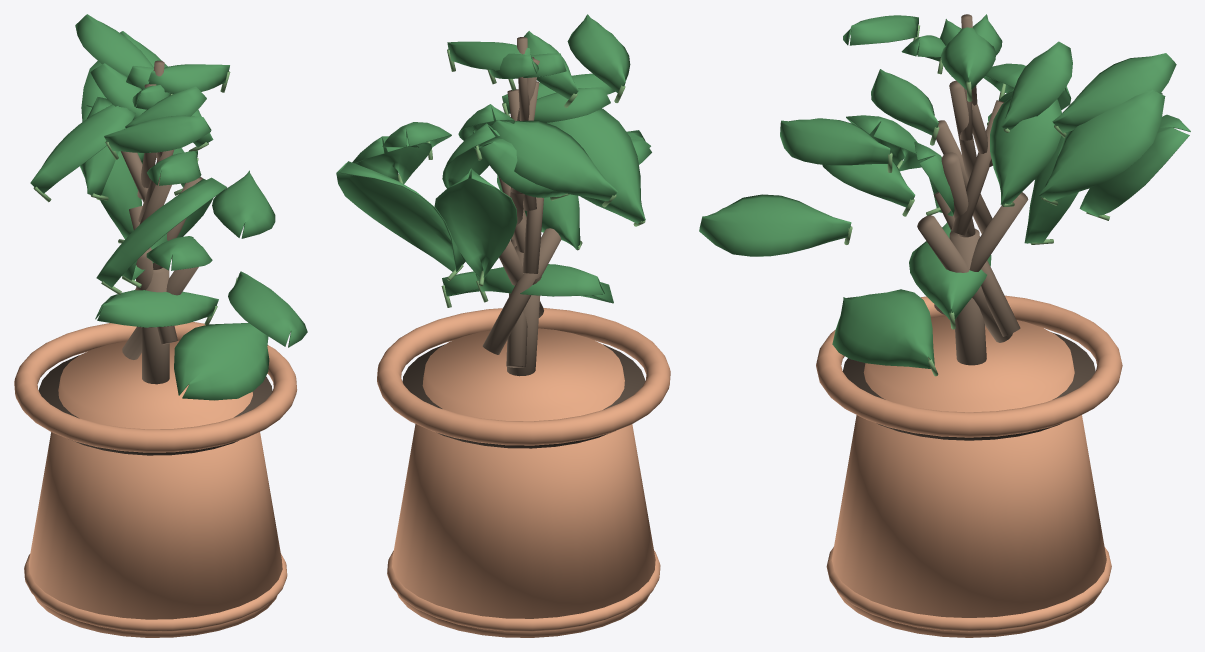
File: conservatory_plant_pbr.glb
3 views of the same model, side by side, from view 1: azimuth 30°, elevation 25°; view 2: azimuth 150°, elevation 25°; view 3: azimuth 270°, elevation 25° (orthographic). The views are drawn at different scales.
Visible parts, largest first — view 1: Cone, Torus.001, Foliage_Leaf_2, Torus, Foliage_Leaf_3, Foliage_Leaf_4, Foliage_Leaf_10, Foliage_Leaf_8, Foliage_Leaf_16, Foliage_Leaf_14, Foliage_Leaf_12, Foliage_Leaf_1 (+19 smaller); view 2: Cone, Torus.001, Foliage_Leaf_0, Foliage_Leaf_10, Foliage_Leaf_1, Foliage_Leaf_4, Torus, Foliage_Leaf_16, Foliage_Leaf_3, Branch_1, Cylinder.001, Foliage_Leaf_6 (+20 smaller); view 3: Cone, Torus.001, Foliage_Leaf_6, Foliage_Leaf_8, Foliage_Leaf_2, Foliage_Leaf_7, Torus, Foliage_Leaf_12, Foliage_Leaf_14, Foliage_Leaf_0, Foliage_Leaf_13, Foliage_Leaf_3 (+19 smaller).
Boxes of the visible parts, left/top/right/bottom form: Cone: left=28, top=340, right=282, bottom=619; Torus.001: left=14, top=322, right=297, bottom=452; Foliage_Leaf_2: left=174, top=322, right=269, bottom=400; Torus: left=24, top=554, right=287, bottom=631; Foliage_Leaf_3: left=95, top=290, right=218, bottom=327; Foliage_Leaf_4: left=96, top=177, right=226, bottom=287; Foliage_Leaf_10: left=30, top=104, right=135, bottom=193; Foliage_Leaf_8: left=228, top=271, right=307, bottom=347; Foliage_Leaf_16: left=104, top=115, right=211, bottom=152; Foliage_Leaf_14: left=212, top=170, right=275, bottom=238; Foliage_Leaf_12: left=75, top=14, right=153, bottom=89; Foliage_Leaf_1: left=83, top=105, right=141, bottom=239; Cone: left=392, top=328, right=655, bottom=618; Torus.001: left=377, top=308, right=670, bottom=445; Foliage_Leaf_0: left=336, top=161, right=465, bottom=271; Foliage_Leaf_10: left=490, top=120, right=617, bottom=201; Foliage_Leaf_1: left=434, top=168, right=517, bottom=278; Foliage_Leaf_4: left=547, top=108, right=645, bottom=223; Torus: left=387, top=550, right=660, bottom=631; Foliage_Leaf_16: left=567, top=14, right=630, bottom=93; Foliage_Leaf_3: left=475, top=264, right=604, bottom=296; Branch_1: left=482, top=228, right=561, bottom=354; Cylinder.001: left=402, top=344, right=645, bottom=448; Foliage_Leaf_6: left=352, top=136, right=431, bottom=184; Cone: left=831, top=316, right=1106, bottom=617; Torus.001: left=816, top=295, right=1122, bottom=437; Foliage_Leaf_6: left=1038, top=89, right=1165, bottom=201; Foliage_Leaf_8: left=699, top=194, right=851, bottom=256; Foliage_Leaf_2: left=832, top=289, right=934, bottom=368; Foliage_Leaf_7: left=990, top=97, right=1061, bottom=204; Torus: left=826, top=547, right=1111, bottom=631; Foliage_Leaf_12: left=1052, top=53, right=1176, bottom=132; Foliage_Leaf_14: left=780, top=118, right=890, bottom=165; Foliage_Leaf_0: left=1079, top=114, right=1190, bottom=216; Foliage_Leaf_13: left=1001, top=41, right=1072, bottom=129; Foliage_Leaf_3: left=909, top=222, right=991, bottom=319.
Size of the model in its own units: 0.774 by 1.58 by 1.24.
